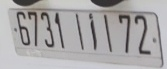1: (53, 11, 66, 49)
2: (134, 13, 151, 57)
3: (40, 11, 55, 49)
6: (15, 11, 30, 46)
7: (117, 13, 131, 55), (27, 11, 40, 48)
a: (86, 12, 101, 52)
